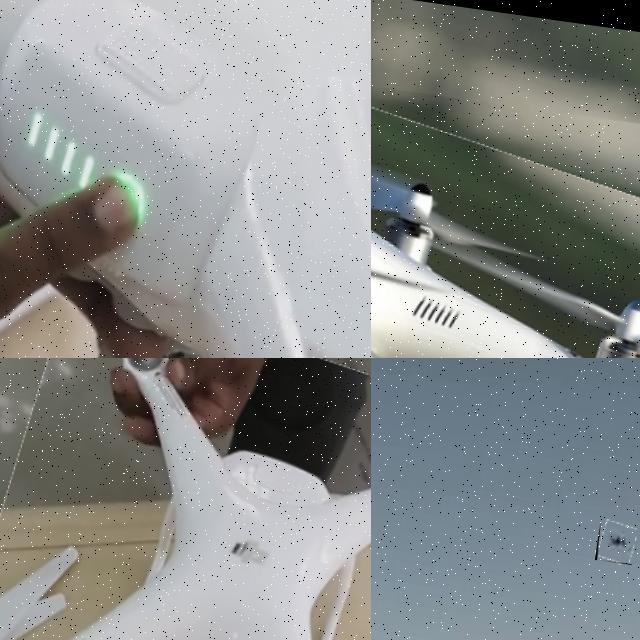0: (595, 520, 637, 565)
drone: (0, 0, 371, 358), (0, 358, 371, 640), (371, 40, 640, 358)
